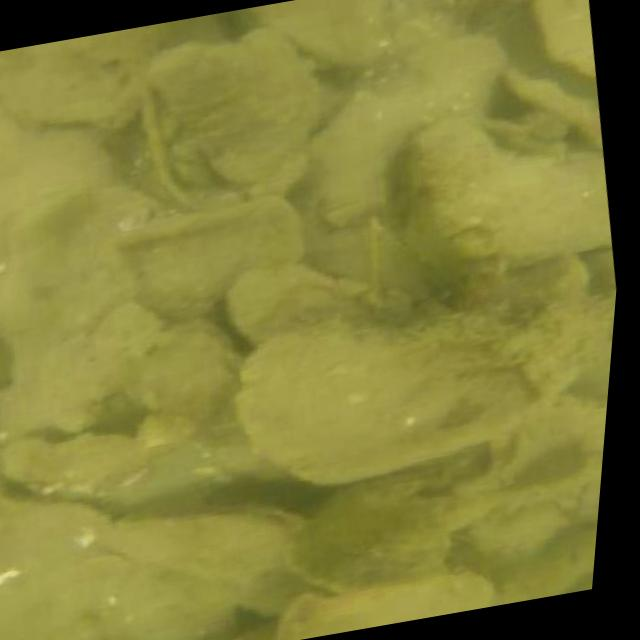Oyster-Closed: (396, 117, 591, 279), (146, 33, 318, 198), (127, 200, 305, 317), (9, 433, 135, 490), (501, 526, 597, 600)
Oyster-Indeterminate: (236, 291, 614, 483), (316, 39, 504, 226), (95, 508, 337, 617), (288, 461, 456, 595), (0, 25, 159, 126), (224, 263, 408, 342), (238, 0, 384, 68), (129, 325, 242, 411), (530, 0, 596, 81)
Oyster-Open: (503, 428, 589, 501)
